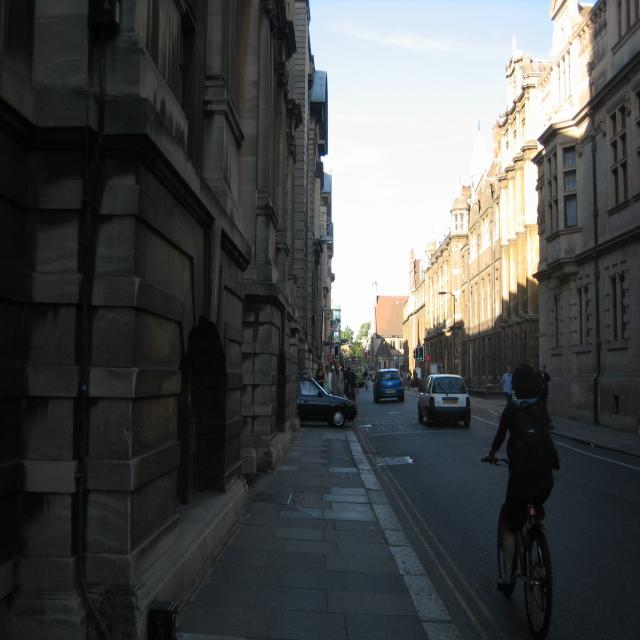Bicycle: (469, 481, 568, 634)
People: (495, 343, 559, 481)
car: (420, 351, 490, 436), (291, 364, 363, 438), (372, 357, 408, 420)
